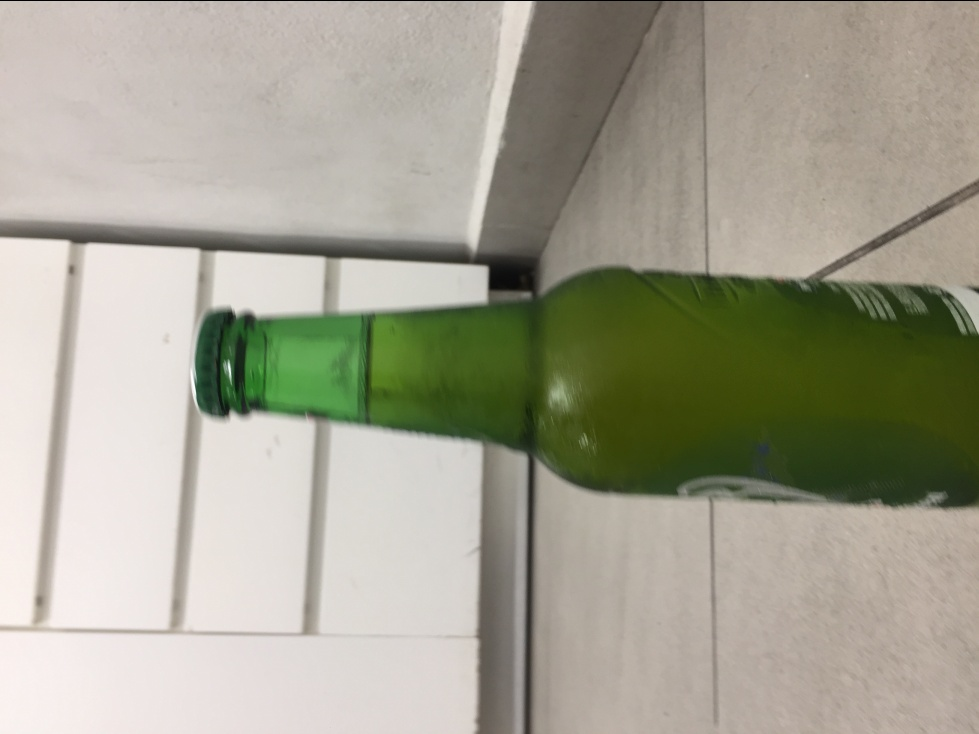heineken: (185, 262, 979, 513)
